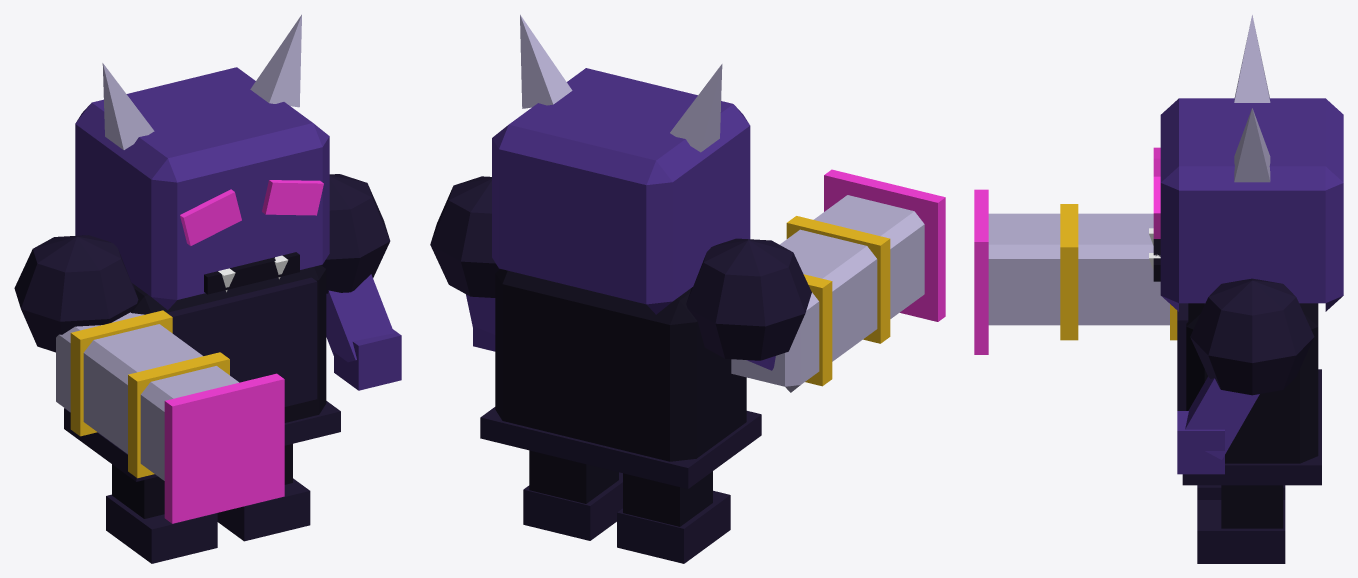
The model's file is breacher_r16.glb.
3 views of the same model, side by side, from view 1: azimuth 30°, elevation 25°; view 2: azimuth 150°, elevation 25°; view 3: azimuth 270°, elevation 25° (orthographic). The views are drawn at different scales.
Parts seen in each view (by area): view 1: breacher_r16_mesh; view 2: breacher_r16_mesh; view 3: breacher_r16_mesh.
Part boxes in pixels (x1=…): breacher_r16_mesh: x1=14, y1=14, x2=401, y2=563; breacher_r16_mesh: x1=430, y1=14, x2=945, y2=563; breacher_r16_mesh: x1=974, y1=15, x2=1343, y2=563.
Bounding box in the file's own units: 1.57 × 2 × 1.44.
1 material, 1 textured.
